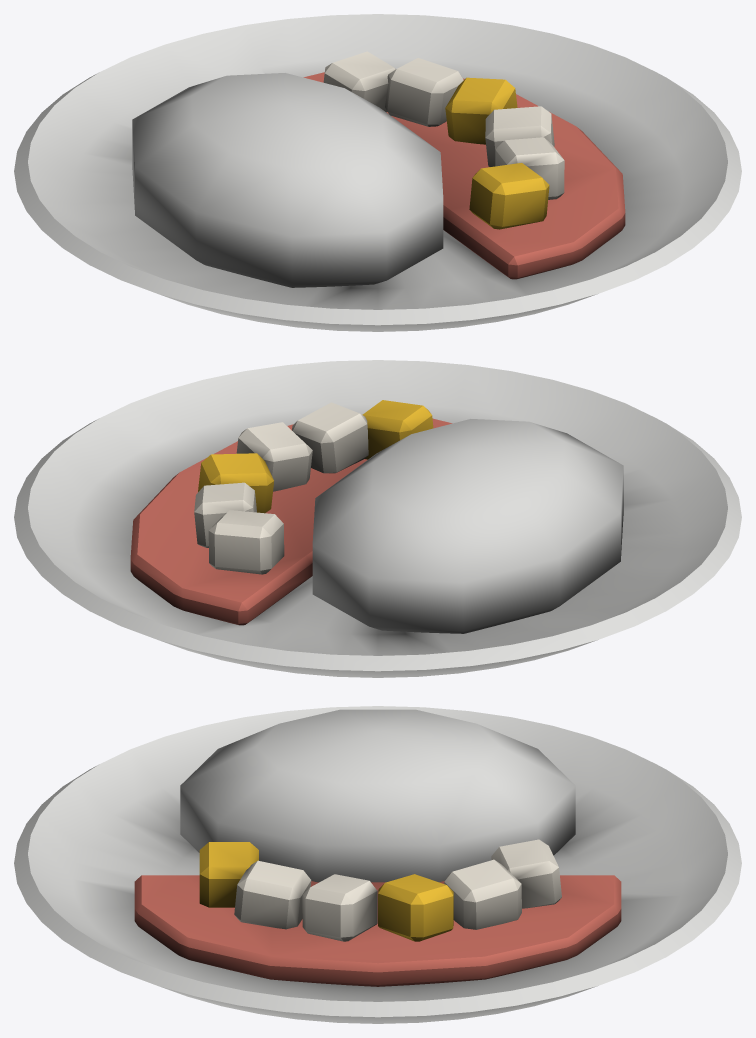
File: meal_curry.glb
The picture shows the model from 3 angles, top to bottom: view 1: azimuth 30°, elevation 25°; view 2: azimuth 150°, elevation 25°; view 3: azimuth 270°, elevation 25°; orthographic projection.
Visible parts, largest first — view 1: PART; view 2: PART; view 3: PART.
Part boxes in pixels (x1,y1,x2,y2): PART: (14,14,741,331); PART: (14,360,741,677); PART: (14,706,741,1023).
Size of the model in its own units: 0.21 by 0.05 by 0.21.
